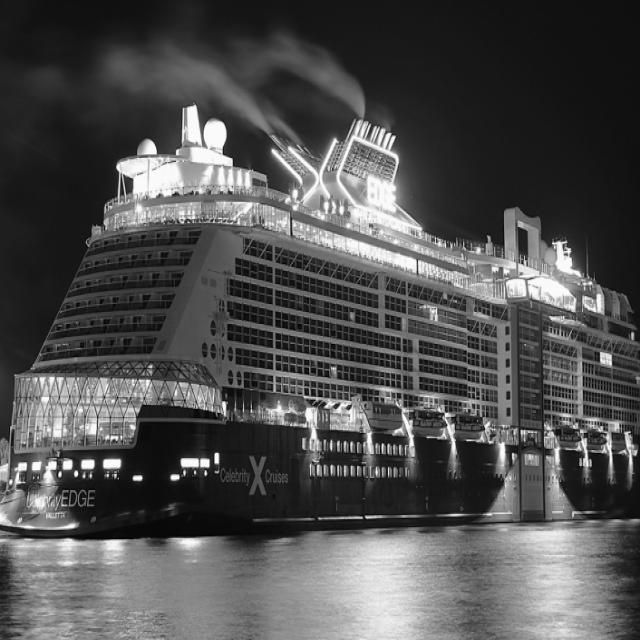cruises: (5, 96, 640, 534)
